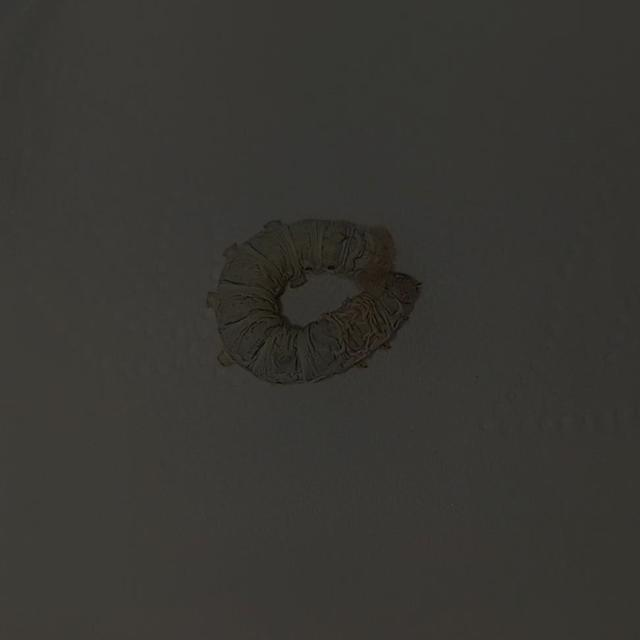Healthy: (171, 168, 474, 427)
